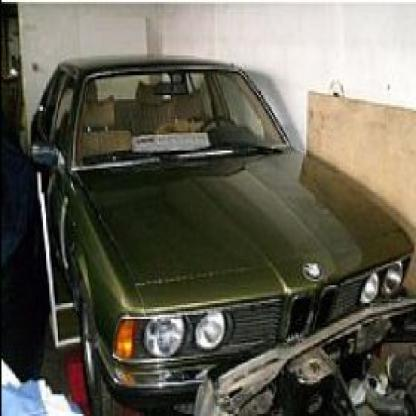car: (31, 55, 416, 415)
